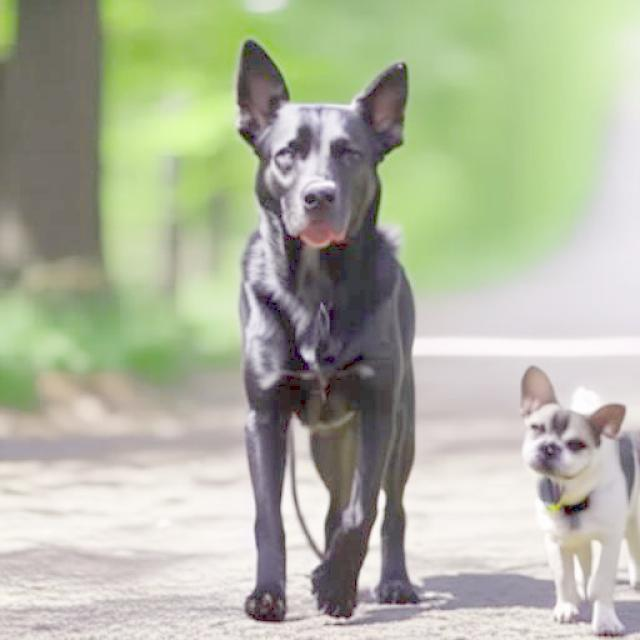Dog: (235, 39, 421, 622), (518, 365, 640, 637)
